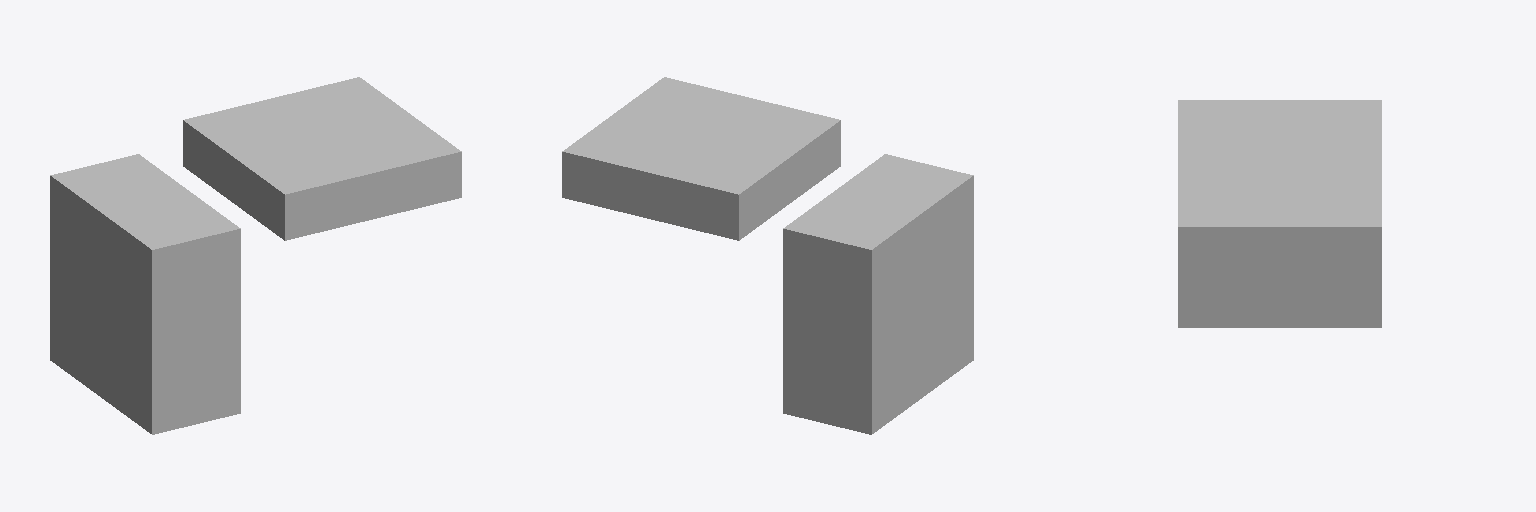
File: maya_split_pivot_12.obj
The picture shows the model from 3 angles: view 1: azimuth 30°, elevation 25°; view 2: azimuth 150°, elevation 25°; view 3: azimuth 270°, elevation 25°; orthographic projection.
Visible parts, largest first — view 1: pCube1, pCube1 pCube2; view 2: pCube1, pCube1 pCube2; view 3: pCube1 pCube2, pCube1.
Part boxes in pixels (bbox=[...]): pCube1: bbox=[50, 154, 240, 434]; pCube1 pCube2: bbox=[183, 77, 461, 240]; pCube1: bbox=[783, 154, 973, 434]; pCube1 pCube2: bbox=[562, 77, 840, 240]; pCube1 pCube2: bbox=[1178, 141, 1381, 273]; pCube1: bbox=[1178, 100, 1381, 327].
Size of the model in its own units: 1.75 by 1.12 by 1.